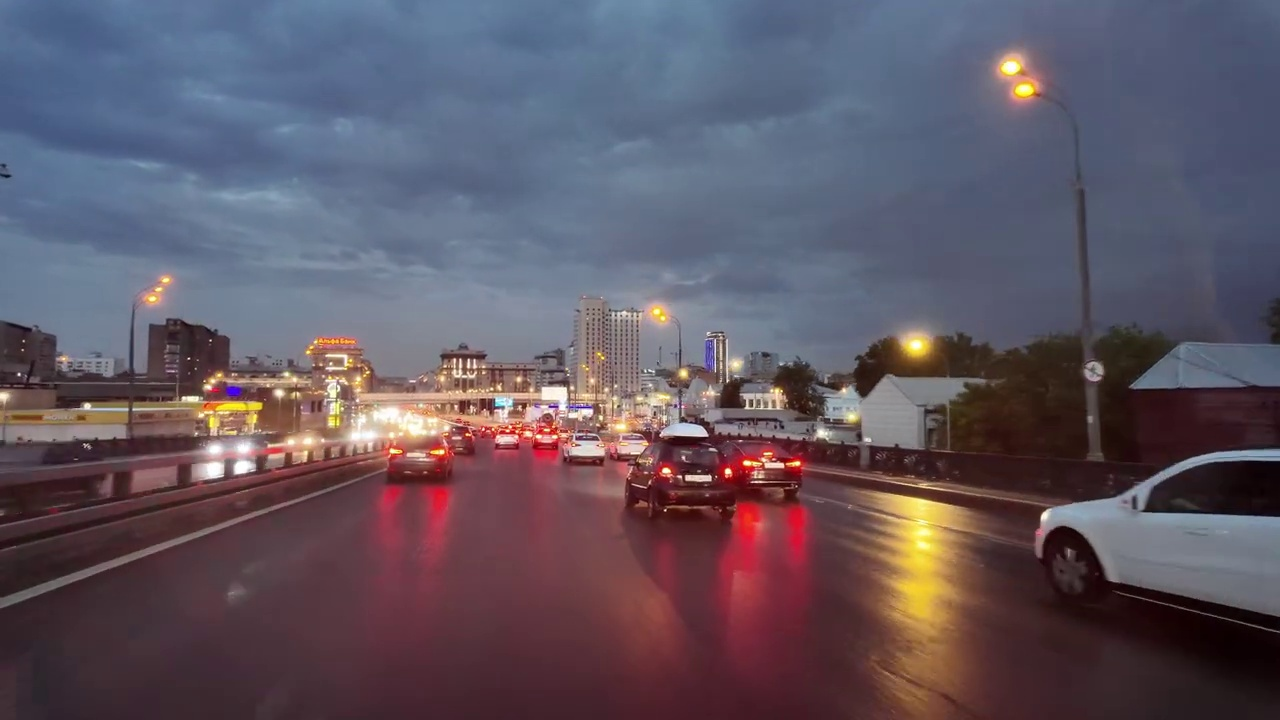acesa: (994, 52, 1036, 96), (898, 330, 936, 365), (141, 276, 171, 308), (645, 301, 671, 327)
